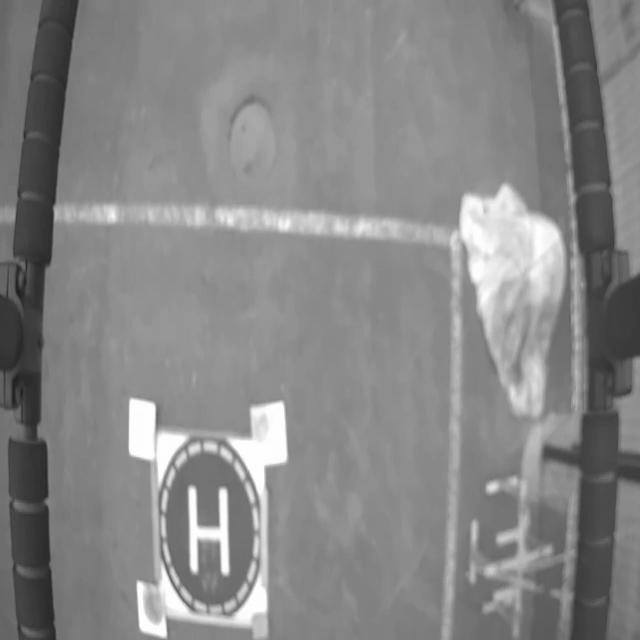Helipad: (187, 484, 231, 578)
